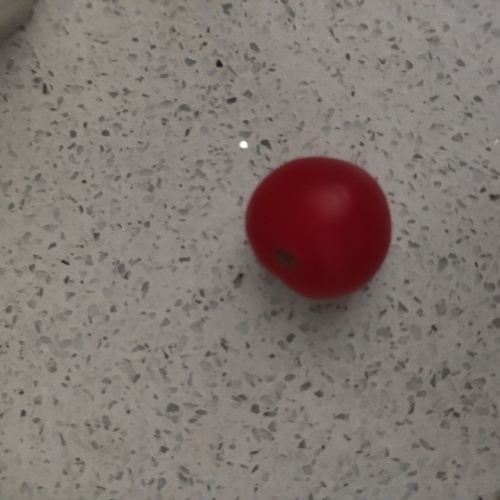pomodoro: (236, 149, 393, 307)
